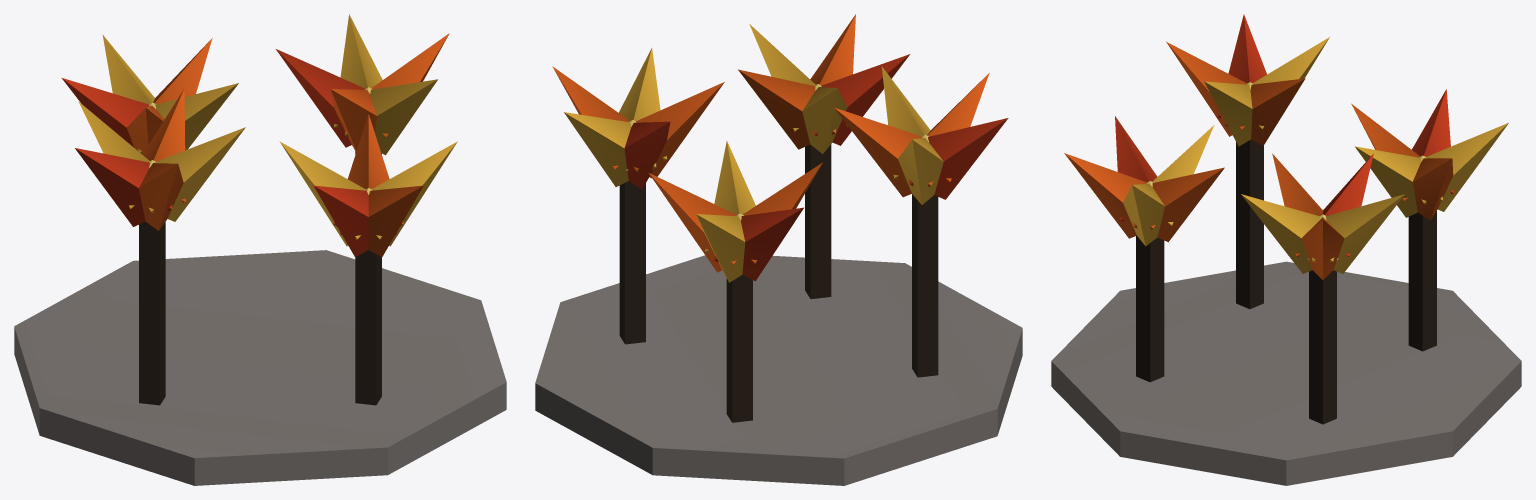
The model's file is p_vk_firebloom.glb.
3 views of the same model, side by side, from view 1: azimuth 30°, elevation 25°; view 2: azimuth 150°, elevation 25°; view 3: azimuth 270°, elevation 25° (orthographic). The views are drawn at different scales.
Parts seen in each view (by area): view 1: body; view 2: body; view 3: body.
Part boxes in pixels (left/top/right/bottom): body: left=14, top=14, right=506, bottom=485; body: left=535, top=14, right=1022, bottom=485; body: left=1051, top=14, right=1521, bottom=485.
Size of the model in its own units: 1 by 0.6534 by 1.
